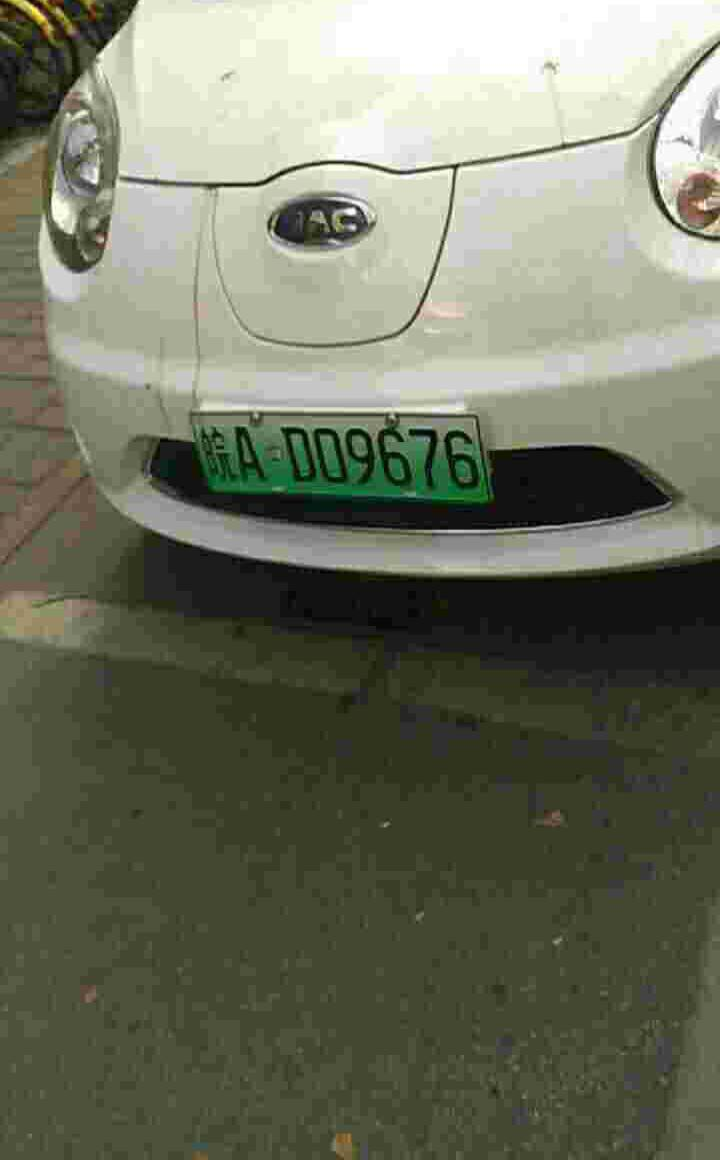car_id: (194, 412, 486, 501)
